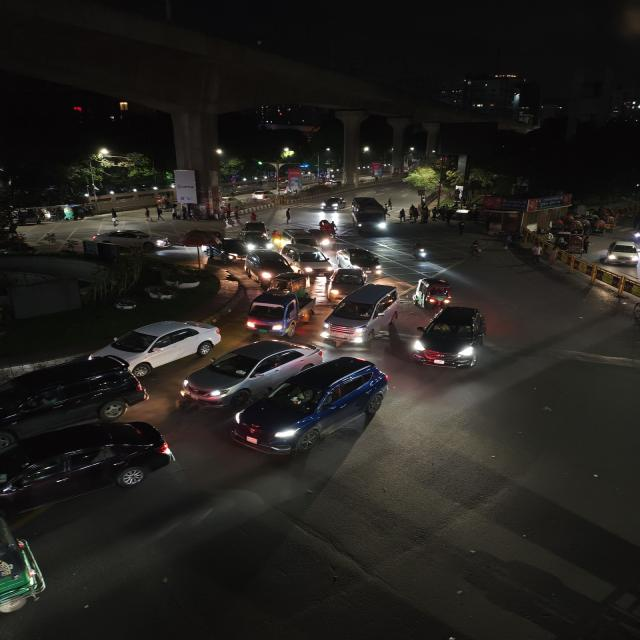bus: (349, 195, 392, 235)
car: (229, 354, 391, 462), (2, 418, 174, 504), (0, 354, 148, 436), (176, 337, 323, 409), (91, 318, 224, 374), (408, 304, 494, 373), (320, 282, 404, 348), (86, 226, 172, 250), (240, 250, 295, 284), (282, 241, 332, 275), (338, 246, 387, 277), (601, 240, 639, 266), (236, 221, 273, 247), (218, 238, 248, 262), (316, 194, 346, 213), (250, 190, 274, 202)
cng: (411, 274, 456, 310), (326, 267, 368, 301), (270, 272, 312, 294)
motorcycle: (408, 240, 432, 262), (268, 228, 290, 250)
pedestrian: (465, 239, 485, 259), (497, 231, 516, 251), (281, 206, 296, 225), (107, 209, 122, 228), (409, 204, 422, 224), (141, 207, 155, 223), (456, 220, 468, 237), (154, 205, 166, 221), (168, 206, 179, 221), (398, 207, 408, 223)
pickup_van: (242, 290, 314, 336)
rickshaw: (551, 231, 590, 253), (310, 218, 341, 244)
